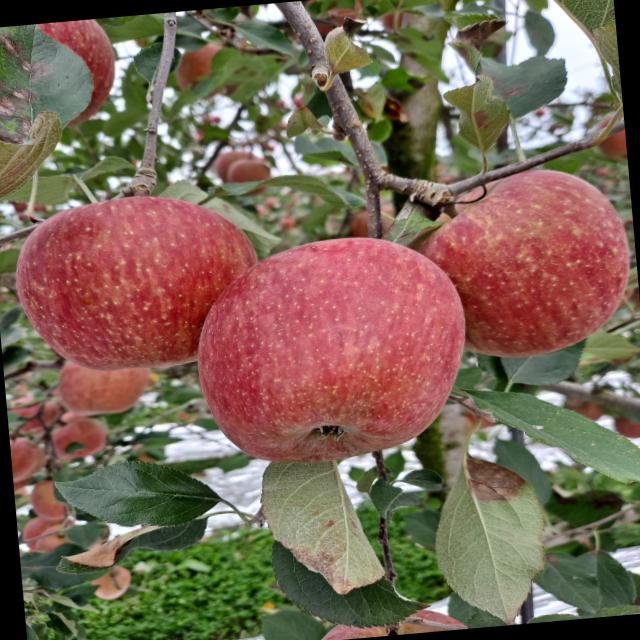fresh: (175, 221, 485, 482), (3, 180, 271, 387), (401, 157, 640, 371)
